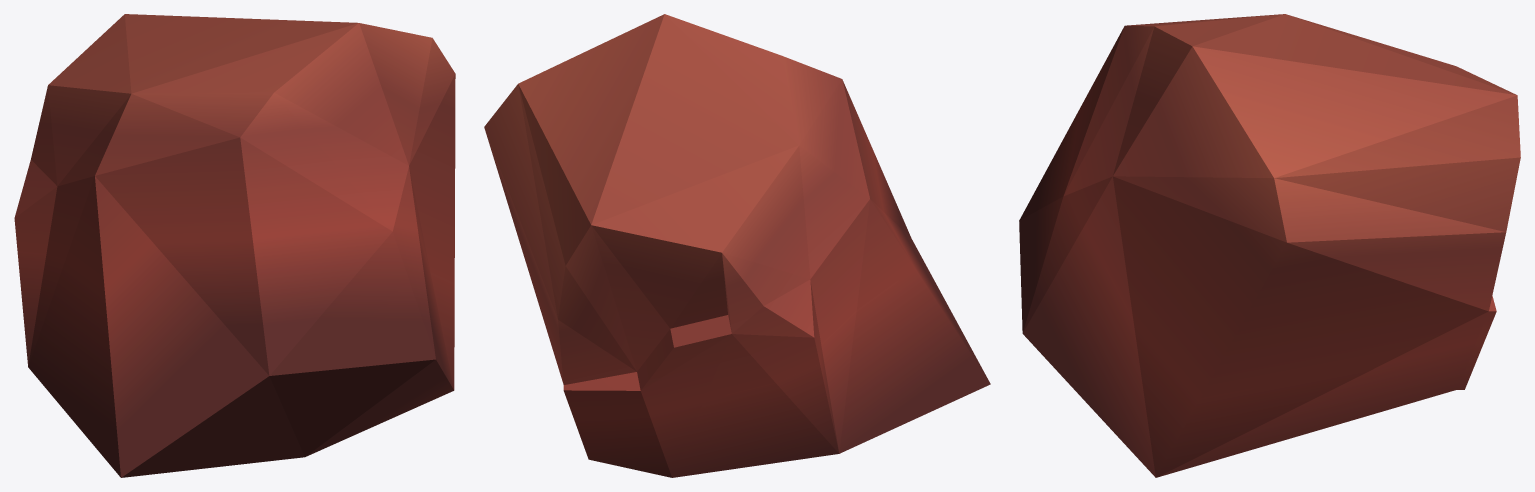
File: pierre_1.fbx
The picture shows the model from 3 angles, left to right: view 1: azimuth 30°, elevation 25°; view 2: azimuth 150°, elevation 25°; view 3: azimuth 270°, elevation 25°; orthographic projection. The views are drawn at different scales.
Parts seen in each view (by area): view 1: Rocas.009; view 2: Rocas.009; view 3: Rocas.009.
Part boxes in pixels (bbox=[...]): Rocas.009: bbox=[14, 14, 455, 477]; Rocas.009: bbox=[484, 14, 990, 477]; Rocas.009: bbox=[1019, 14, 1520, 477].
Size of the model in its own units: 302 by 260 by 292.
